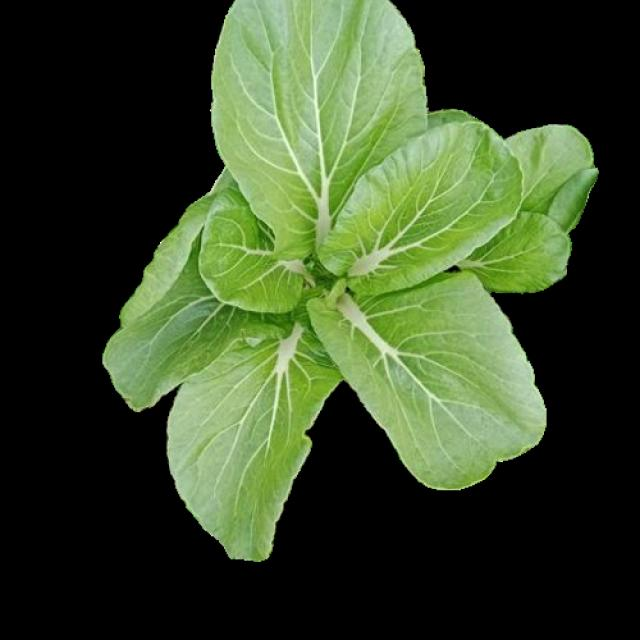healthy: (98, 1, 594, 563)
mature: (101, 1, 597, 563)
